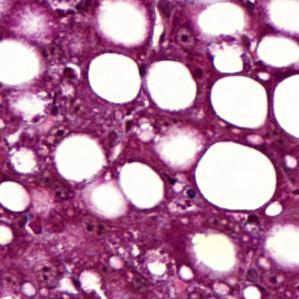steatosis: (191, 135, 281, 215), (210, 75, 271, 132), (89, 50, 143, 102), (149, 58, 195, 114), (119, 157, 166, 210)
